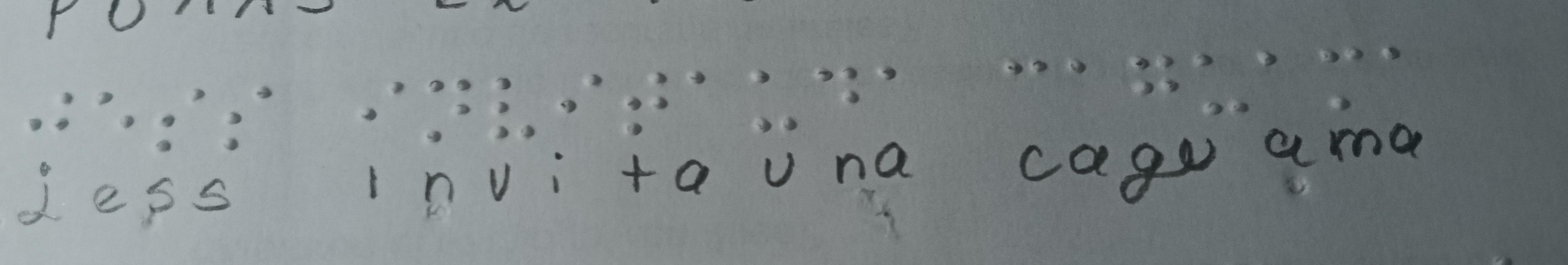a: (1063, 18, 1115, 126), (1374, 10, 1435, 94), (874, 35, 923, 137), (678, 49, 725, 136), (1239, 33, 1298, 92)
c: (990, 33, 1057, 128)
d: (805, 45, 875, 144)
e: (88, 76, 141, 157)
g: (1120, 31, 1190, 133)
i: (352, 76, 412, 151), (550, 61, 611, 132)
j: (19, 76, 86, 149)
m: (1301, 26, 1373, 124)
n: (415, 70, 480, 160)
s: (144, 79, 213, 159), (217, 77, 276, 164)
t: (617, 60, 678, 149)
u: (736, 49, 815, 148), (1193, 31, 1259, 135)
v: (488, 70, 540, 162)
